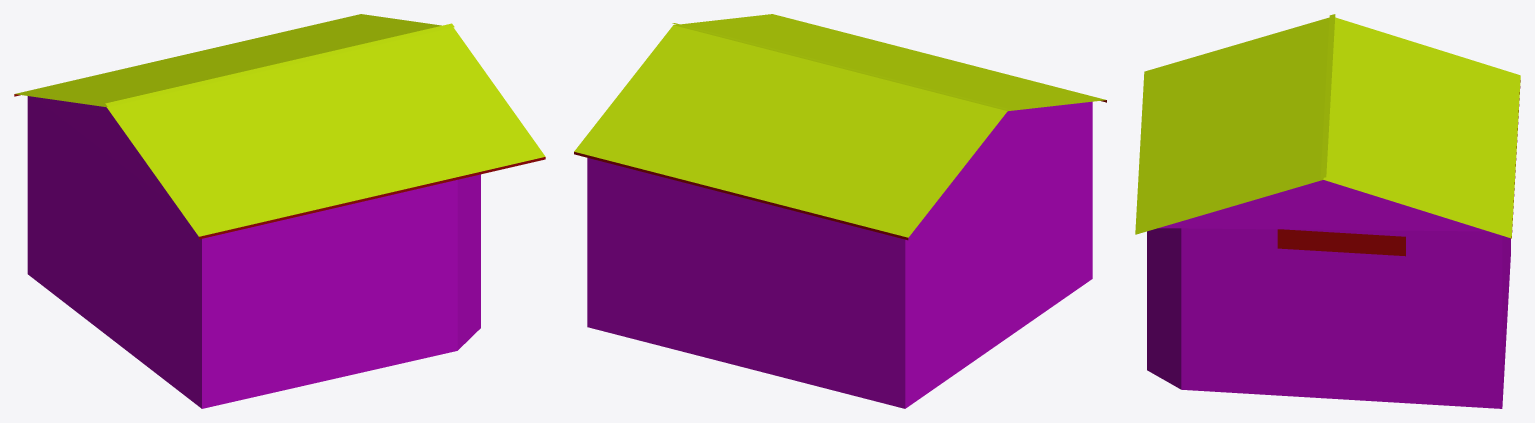
3 views of the same model, side by side, from view 1: azimuth 30°, elevation 25°; view 2: azimuth 150°, elevation 25°; view 3: azimuth 270°, elevation 25° (orthographic). The views are drawn at different scales.
Parts seen in each view (by area): view 1: sc_89; view 2: sc_89; view 3: sc_89.
Boxes of the visible parts, x1,y1,x2,y2 form: sc_89: (14, 14, 545, 408); sc_89: (574, 14, 1106, 408); sc_89: (1135, 14, 1520, 408).
Size of the model in its own units: 16.57 by 10.83 by 16.16.
